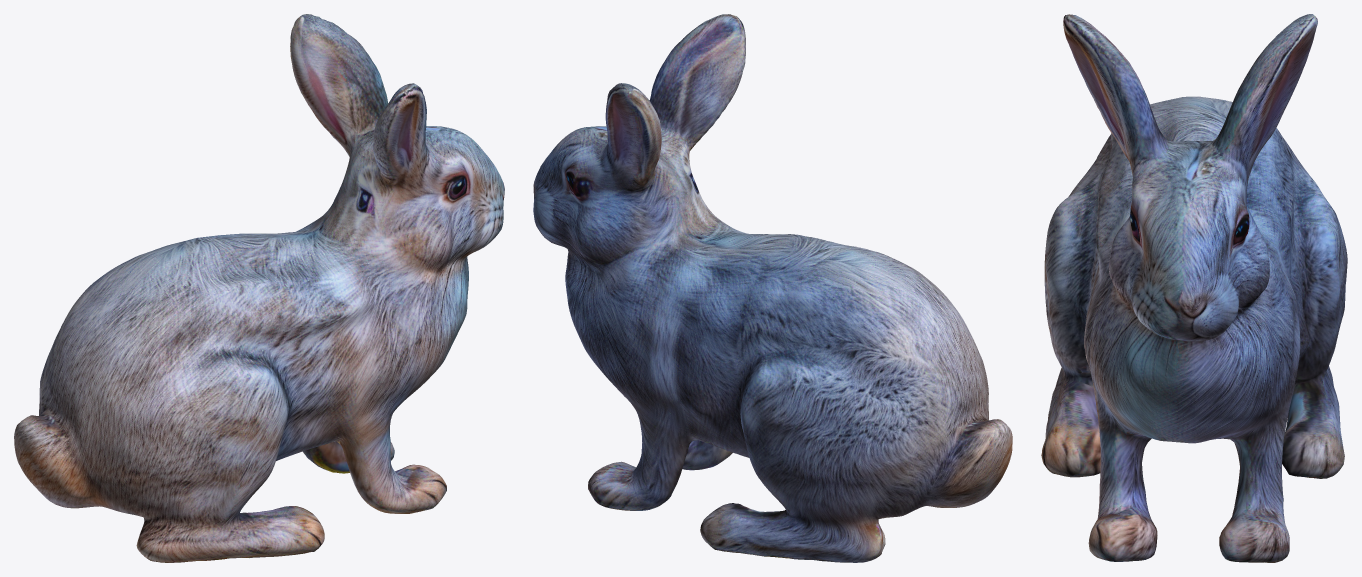
Rendered from rabbit.glb.
The picture shows the model from 3 angles, left to right: view 1: azimuth 30°, elevation 25°; view 2: azimuth 150°, elevation 25°; view 3: azimuth 270°, elevation 25°; orthographic projection. The views are drawn at different scales.
Bounding box in the file's own units: 1.2 × 1.06 × 0.5601.
Materials: 1 (1 with a texture image).
